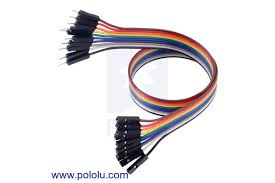led: (77, 20, 205, 152)
